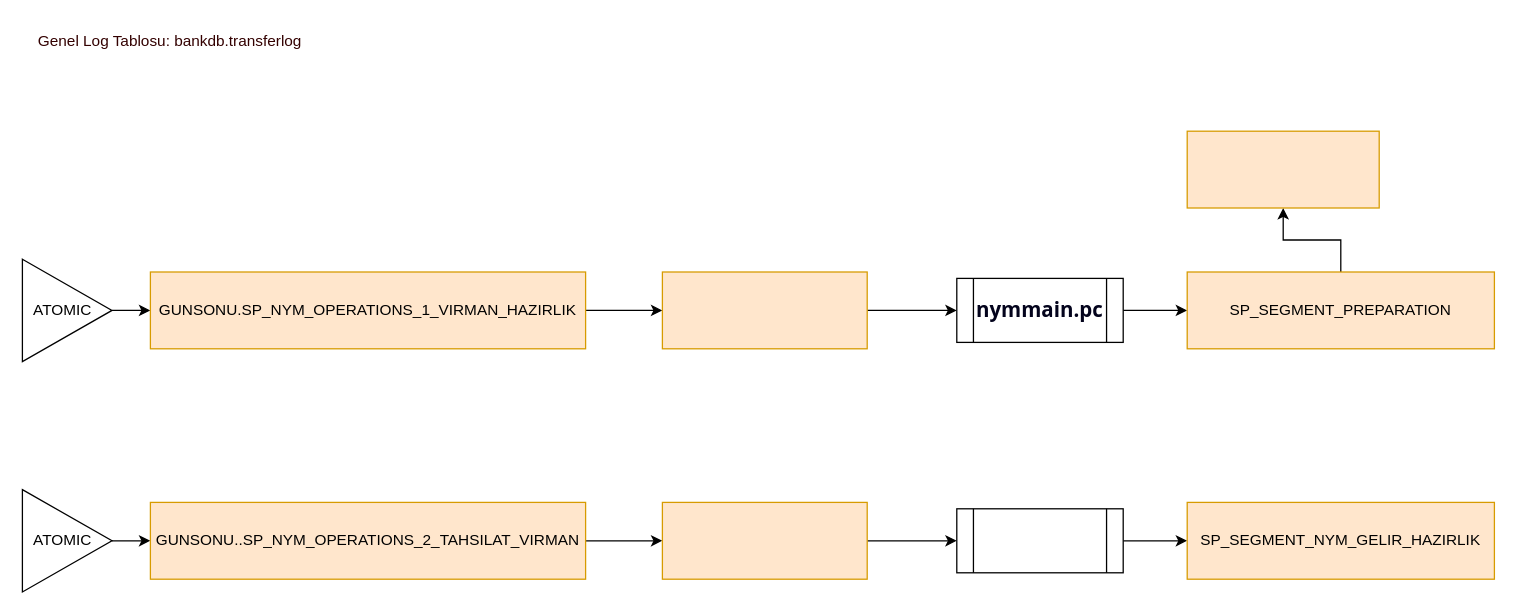
The diagram is 1517 pixels wide and 614 high, and some of its shapes have lost their labels. Each missing label, with the centre of its shape:
LOG PCK_AGDAS.SP_LOG => ONLINEKURUMLOG: the point at 1282,169
nymrapor.pc: the point at 1039,540
SP_NYM_OPERATIONS_1: the point at 764,310
SP_NYM_OPERATIONS_2: the point at 764,540
